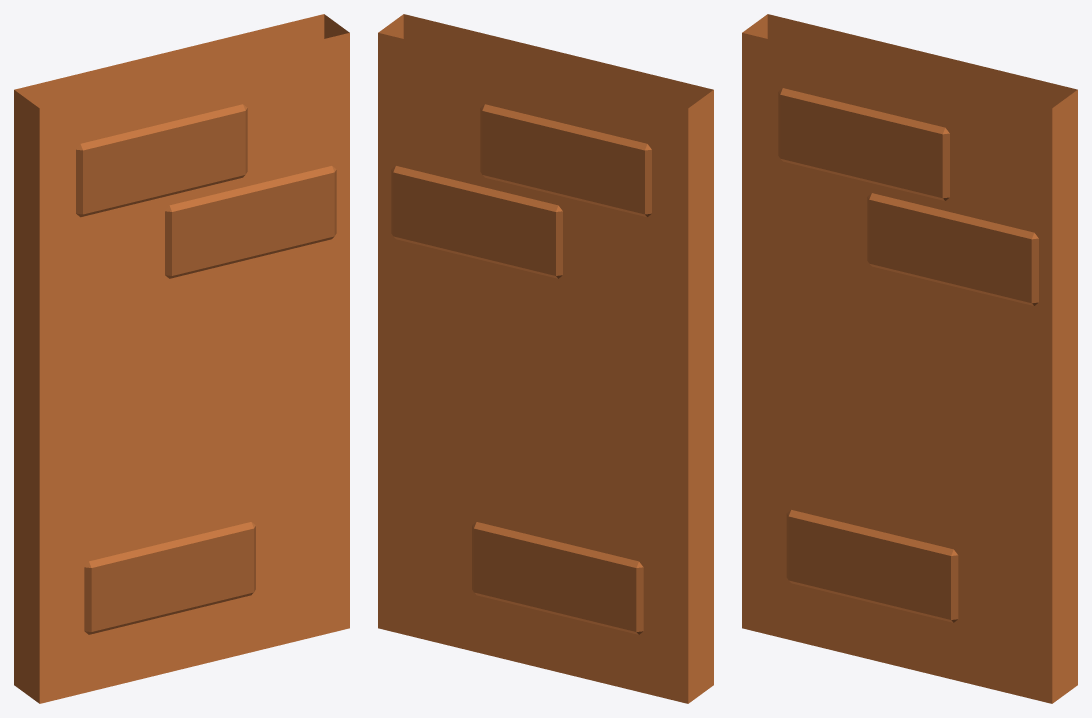
File: wallNextToDoor.fbx
The picture shows the model from 3 angles, left to right: view 1: azimuth 30°, elevation 25°; view 2: azimuth 150°, elevation 25°; view 3: azimuth 330°, elevation 25°; orthographic projection.
Parts seen in each view (by area): view 1: WallNextToDoor; view 2: WallNextToDoor; view 3: WallNextToDoor.
Boxes of the visible parts, x1,y1,x2,y2 form: WallNextToDoor: (14,14,349,703); WallNextToDoor: (378,14,713,703); WallNextToDoor: (742,14,1077,703).
Size of the model in its own units: 140 by 24.1 by 256.
